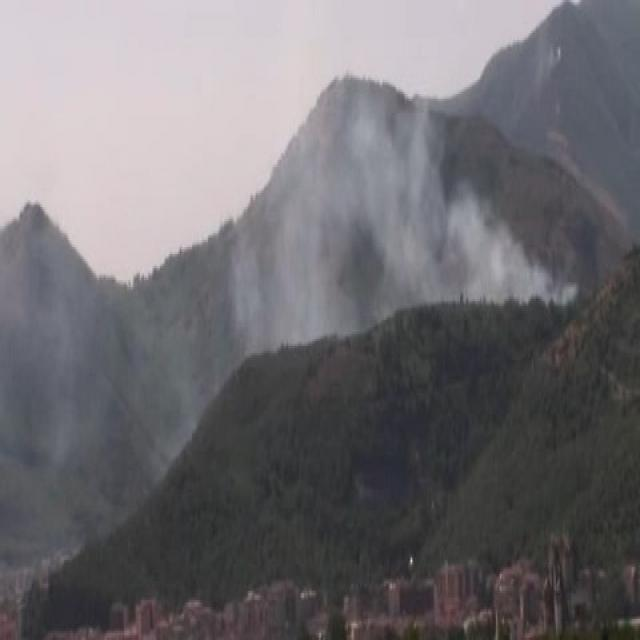smoke: (318, 99, 518, 318)
